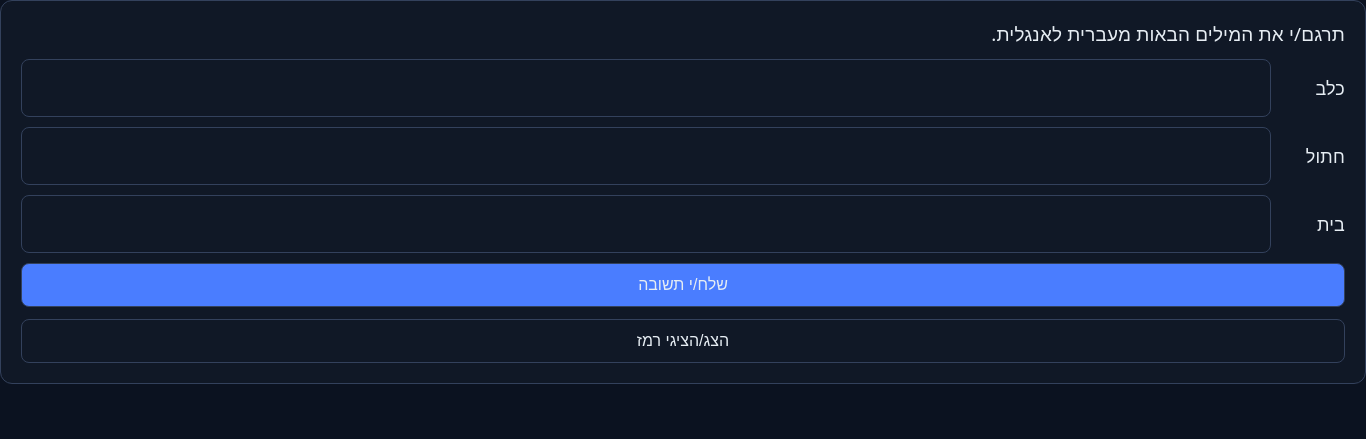
Test: EnglishExercisePanel › hint text is hidden until the hint button is clicked
Click the button with test id "english-hint-button".
click(683, 341)  # box [21, 319, 1345, 363]
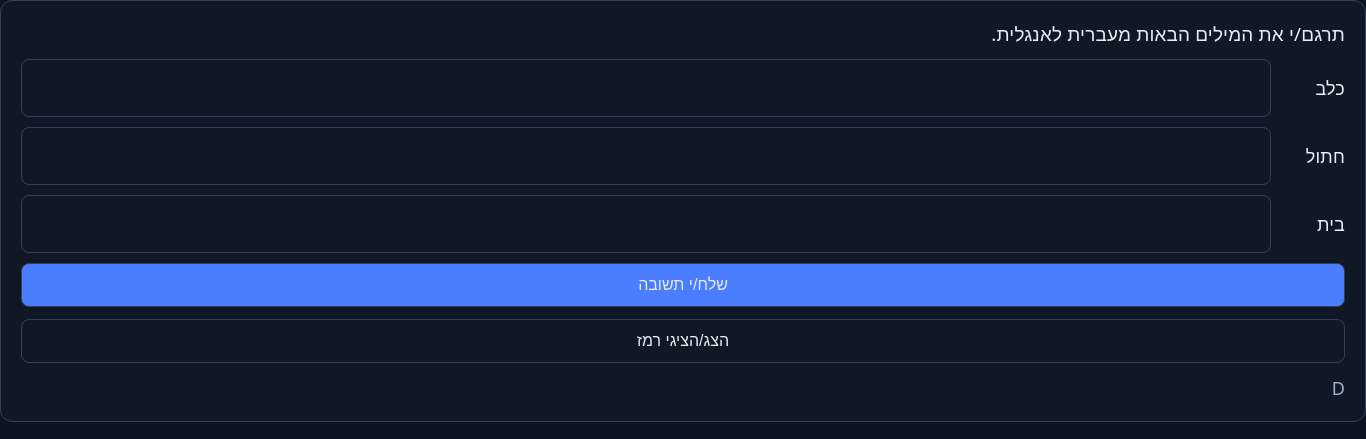
Expected: the text with test id "english-hint-text" reads "D", [1332, 376, 1345, 400]
